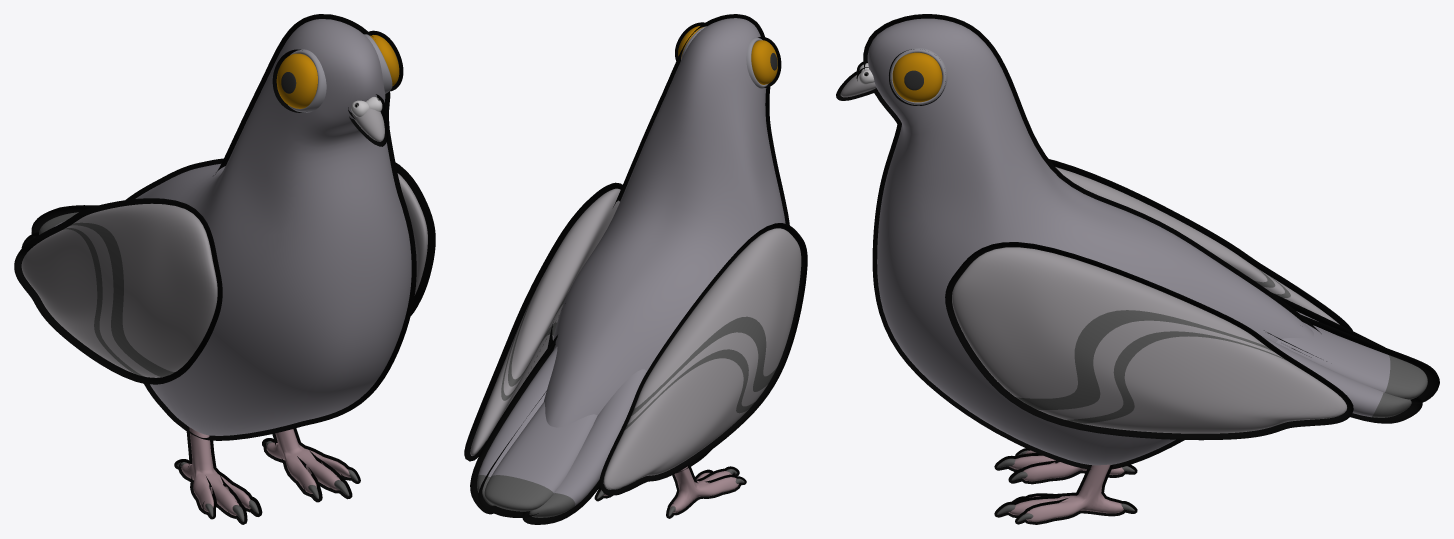
Rendered from Golyb.fbx.
3 renders of one model, left to right at view 1: azimuth 30°, elevation 25°; view 2: azimuth 150°, elevation 25°; view 3: azimuth 270°, elevation 25°, orthographic. The views are drawn at different scales.
Parts seen in each view (by area): view 1: polySurface71, polySurface74, polySurface91, polySurface69, polySurface70, polySurface76, polySurface73, polySurface68, polySurface56, polySurface75; view 2: polySurface71, polySurface74, polySurface72, polySurface91, polySurface73, polySurface69, polySurface76; view 3: polySurface71, polySurface73, polySurface91, polySurface72, polySurface74, polySurface70, polySurface75, polySurface69, polySurface67.
Boxes of the visible parts, x1,y1,x2,y2 form: polySurface71: (135,19,411,435); polySurface74: (21,203,217,377); polySurface91: (14,14,435,524); polySurface69: (181,427,251,515); polySurface70: (266,429,350,493); polySurface76: (276,53,317,108); polySurface73: (397,173,427,295); polySurface68: (288,49,326,112); polySurface56: (352,108,384,141); polySurface75: (370,35,399,86); polySurface71: (544,18,785,427); polySurface74: (603,228,801,489); polySurface72: (477,346,646,517); polySurface91: (464,14,807,524); polySurface73: (470,188,620,455); polySurface69: (670,466,738,512); polySurface76: (751,40,777,84); polySurface71: (867,18,1313,465); polySurface73: (952,247,1347,433); polySurface91: (836,14,1439,524); polySurface72: (1259,311,1427,417); polySurface74: (1055,167,1339,324); polySurface70: (1008,464,1123,521); polySurface75: (892,52,942,102); polySurface69: (1009,450,1124,481); polySurface67: (890,48,947,105).
Bounding box in the file's own units: 4.72 × 8.56 × 9.78.
